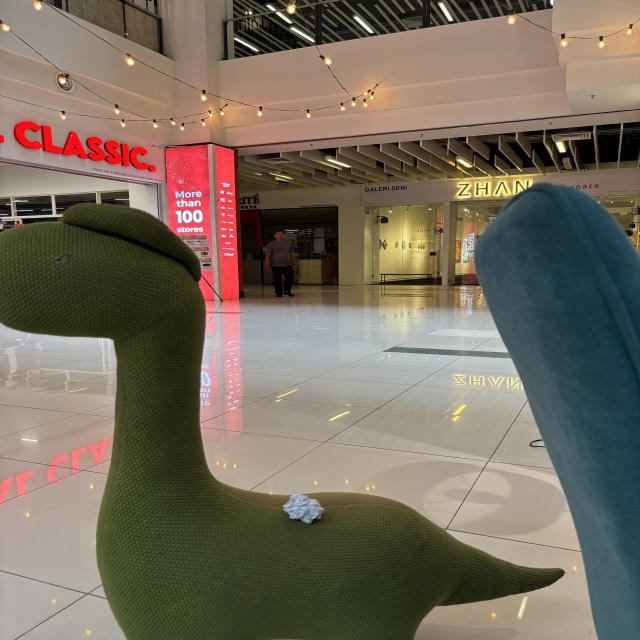crumpled_paper: (284, 493, 326, 527)
